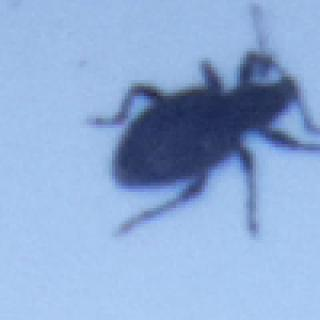bvw: (86, 1, 320, 239)
